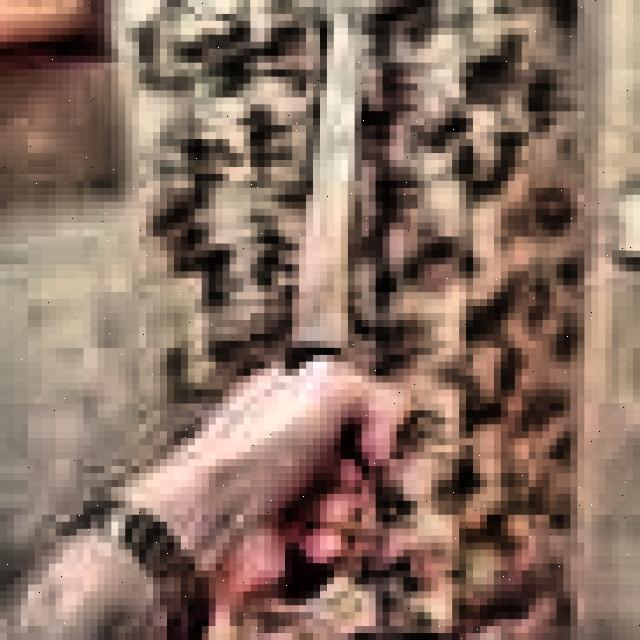knife: (284, 19, 366, 608)
